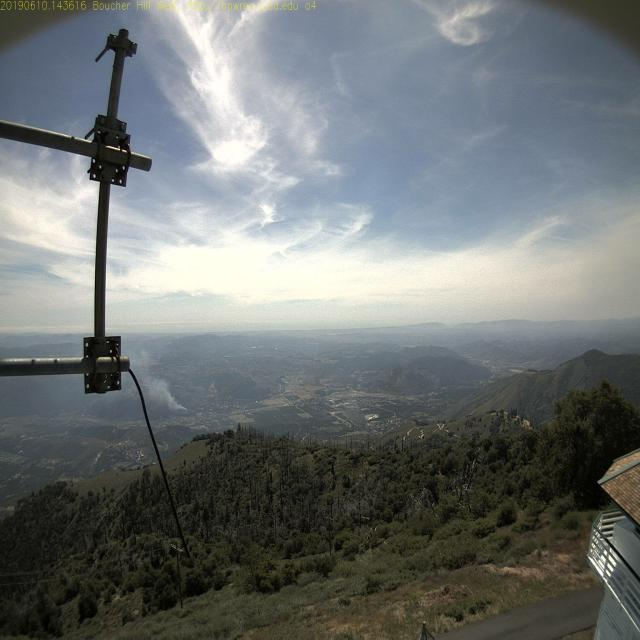smoke: (175, 389, 198, 424)
